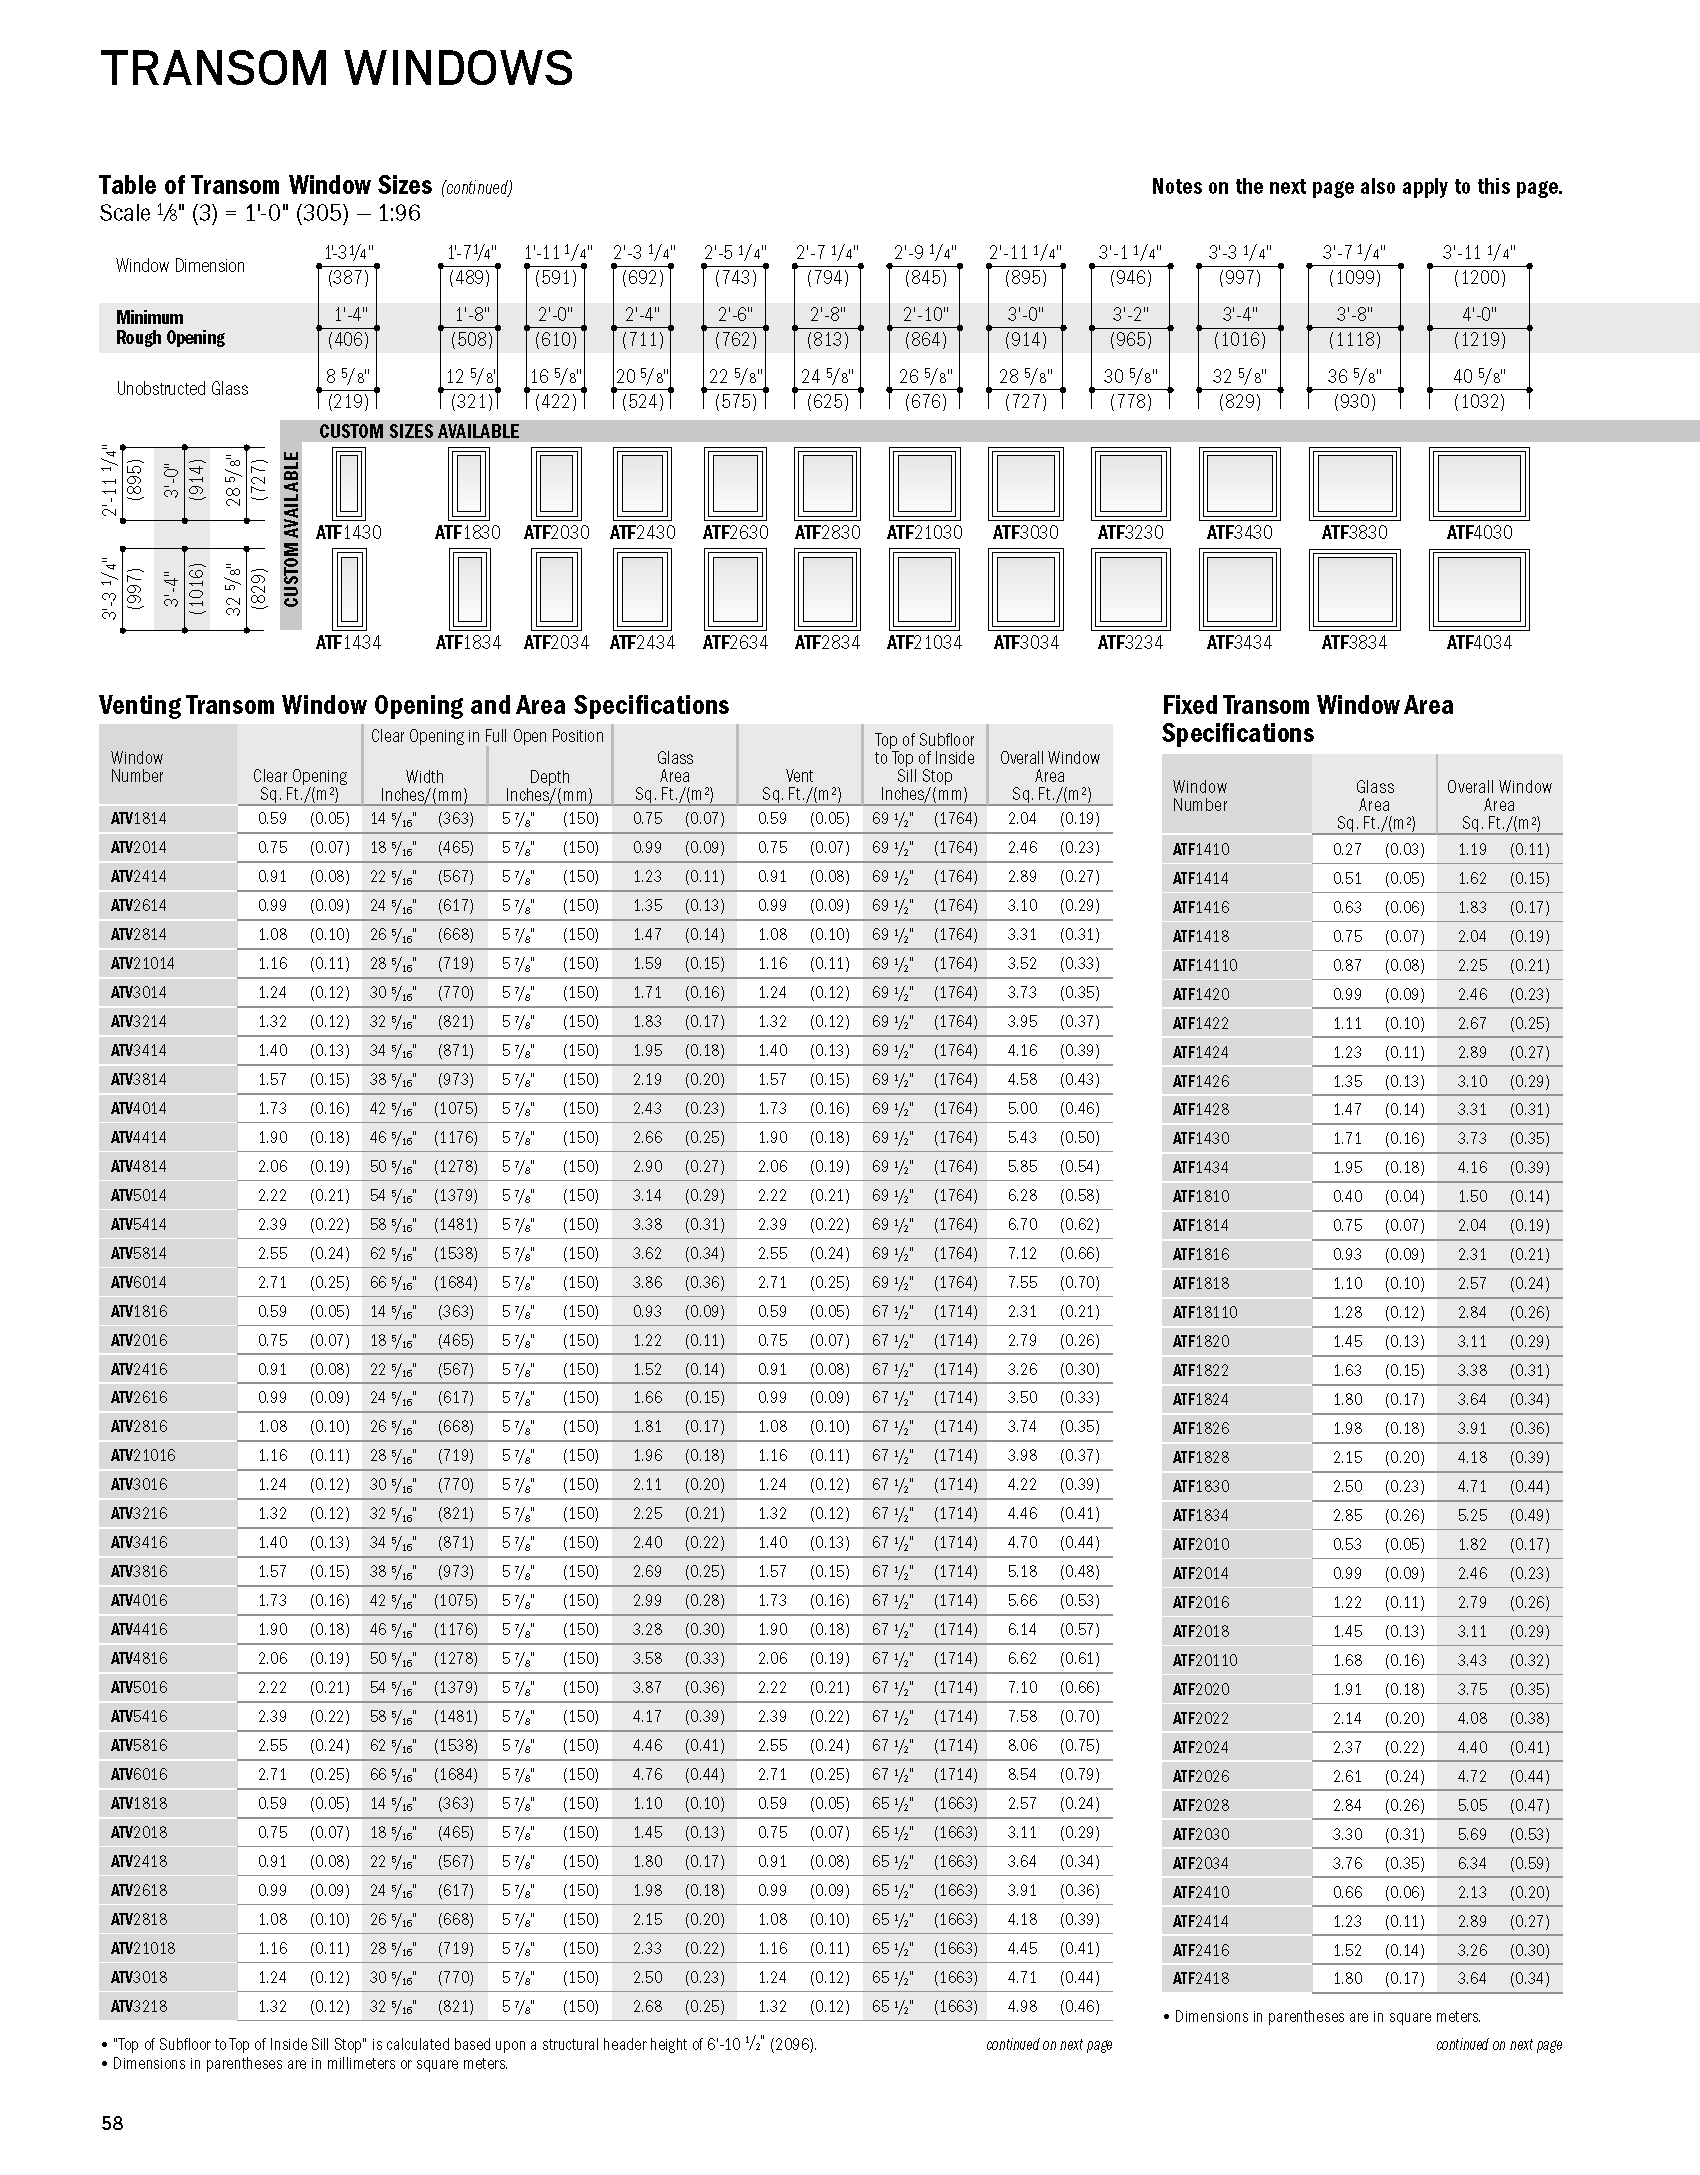tabledetected: (95, 726, 1116, 2025), (95, 240, 1541, 664), (1165, 757, 1566, 1991)
